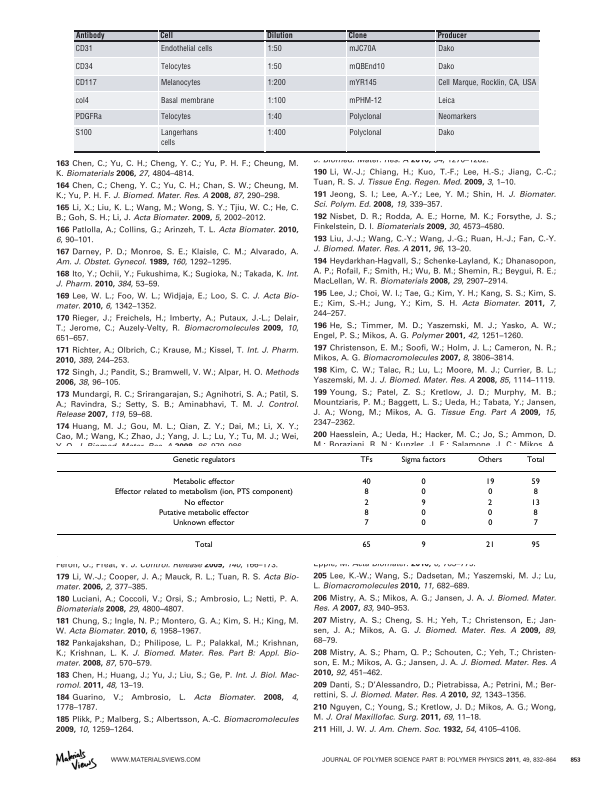borderless: (74, 29, 540, 151), (55, 451, 557, 558)
cell: (113, 488, 293, 498), (437, 78, 537, 88), (157, 508, 249, 518), (159, 128, 198, 148), (171, 455, 236, 465), (172, 478, 235, 487), (172, 519, 235, 528), (159, 96, 215, 105), (159, 44, 213, 53), (400, 455, 446, 465), (159, 78, 201, 88), (183, 498, 224, 508), (437, 112, 477, 122), (348, 112, 382, 122), (348, 128, 382, 138), (348, 62, 385, 71), (159, 112, 191, 122), (74, 31, 105, 41), (436, 31, 467, 41), (348, 96, 382, 105), (348, 78, 377, 88), (159, 62, 191, 71), (265, 31, 293, 41), (74, 112, 102, 122), (477, 455, 503, 465), (348, 44, 376, 53), (74, 78, 97, 88), (525, 455, 545, 465), (347, 31, 367, 41), (266, 78, 286, 88), (266, 128, 286, 138), (194, 541, 213, 551), (266, 96, 286, 105), (74, 128, 92, 138), (437, 128, 455, 138), (74, 44, 93, 53), (74, 62, 93, 71), (437, 44, 455, 53), (437, 62, 455, 71), (437, 96, 455, 105), (266, 112, 282, 122), (266, 44, 282, 53), (266, 62, 282, 71), (359, 455, 373, 465), (159, 31, 173, 41), (74, 96, 89, 105), (530, 498, 540, 508), (361, 541, 371, 551), (485, 541, 495, 551), (530, 541, 540, 551), (361, 478, 371, 487), (485, 478, 495, 487), (530, 478, 540, 487), (363, 488, 369, 498), (420, 488, 426, 498), (487, 488, 493, 498), (532, 488, 538, 498), (363, 498, 369, 508), (420, 498, 426, 508), (487, 498, 493, 508), (363, 508, 369, 518), (420, 508, 426, 518), (487, 508, 493, 518), (532, 508, 538, 518), (420, 541, 426, 551), (420, 478, 426, 487), (363, 519, 369, 528), (420, 519, 426, 528), (487, 519, 493, 528), (532, 519, 538, 528)
